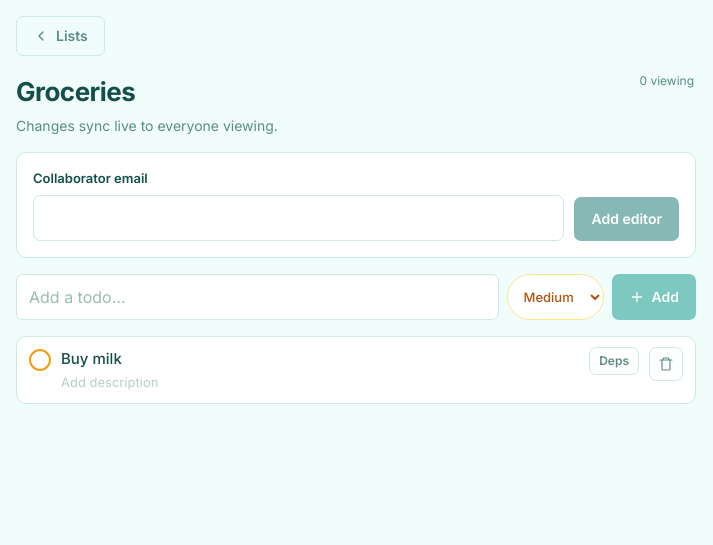
it: ListDetail › keeps confirmed todos visible when a recovery reload also fails
Click the button named "Mark as done": click(40, 360) [29, 348, 51, 370]
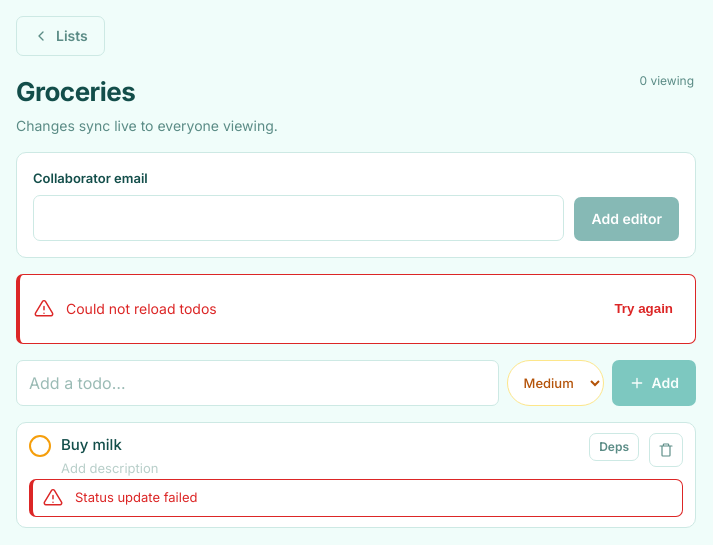
expect the number of messages is 2: met, box [16, 274, 696, 344]; [29, 478, 683, 516]
expect the message "Status update failed" is shown: met, box [29, 478, 683, 516]
expect the text "Could not reload todos" is shown: met, box [66, 300, 217, 317]
